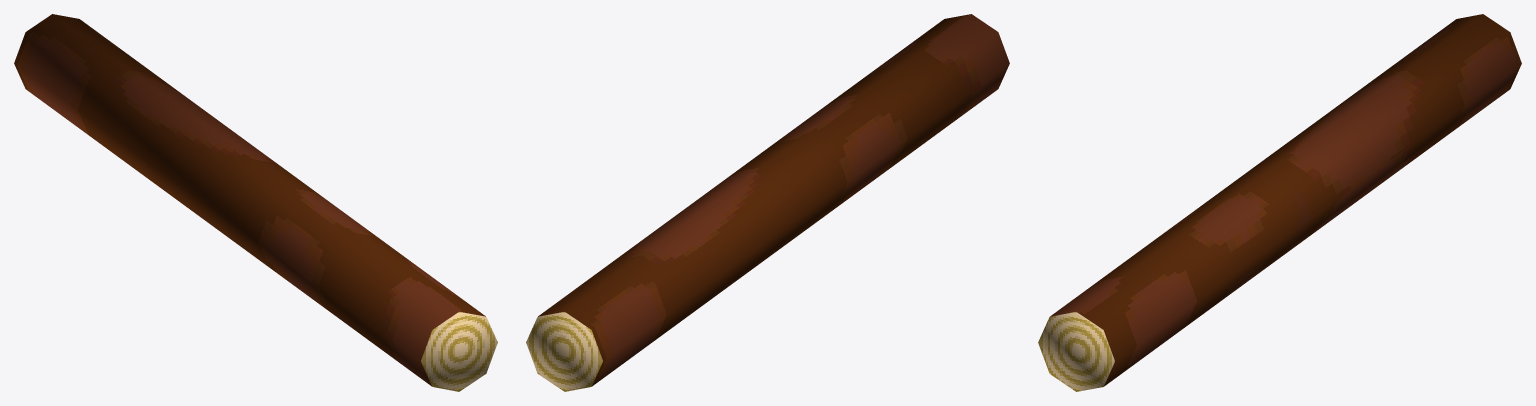
The model's file is log_long.fbx.
3 renders of one model, left to right at view 1: azimuth 30°, elevation 25°; view 2: azimuth 150°, elevation 25°; view 3: azimuth 330°, elevation 25°, orthographic.
Parts seen in each view (by area): view 1: ORG_LOG_LARGE; view 2: ORG_LOG_LARGE; view 3: ORG_LOG_LARGE.
Boxes of the visible parts, bbox=[...] form: ORG_LOG_LARGE: bbox=[14, 14, 497, 391]; ORG_LOG_LARGE: bbox=[526, 14, 1009, 391]; ORG_LOG_LARGE: bbox=[1038, 14, 1521, 391].
Bounding box in the file's own units: 1044 × 1038 × 9538.
